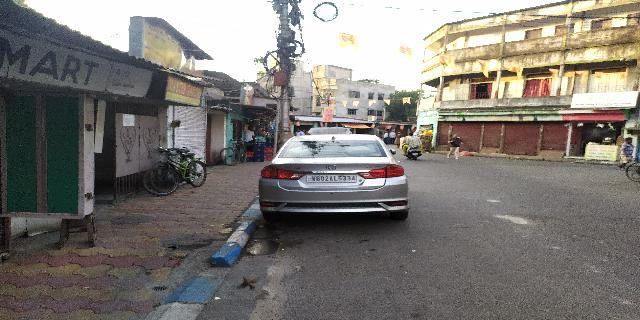Car: (253, 131, 416, 231)
Cycle: (136, 142, 209, 199)
